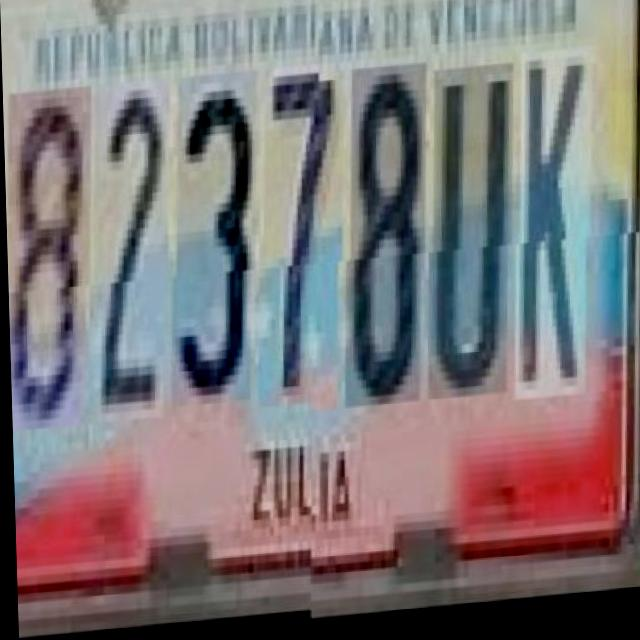2: (86, 91, 179, 434)
3: (169, 84, 265, 418)
7: (256, 78, 353, 421)
8: (2, 96, 100, 439), (343, 71, 436, 414)
k: (511, 60, 601, 411)
u: (425, 74, 521, 408)
